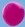Balloon: (3, 2, 25, 26)
